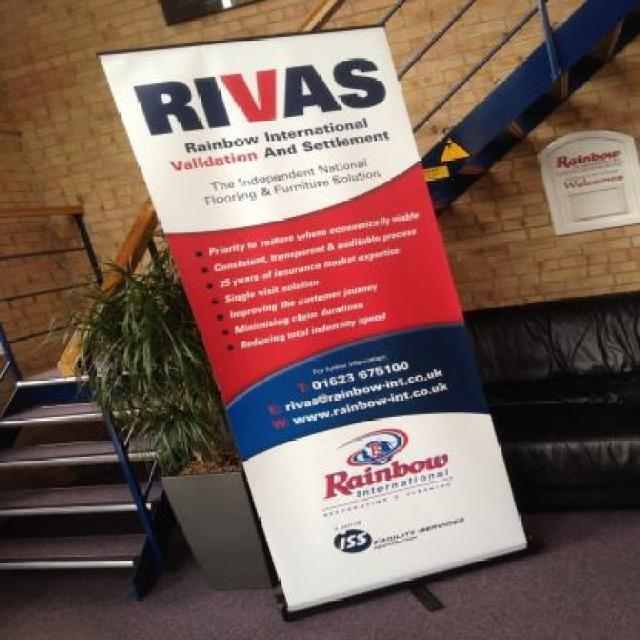stair: (0, 369, 209, 594)
